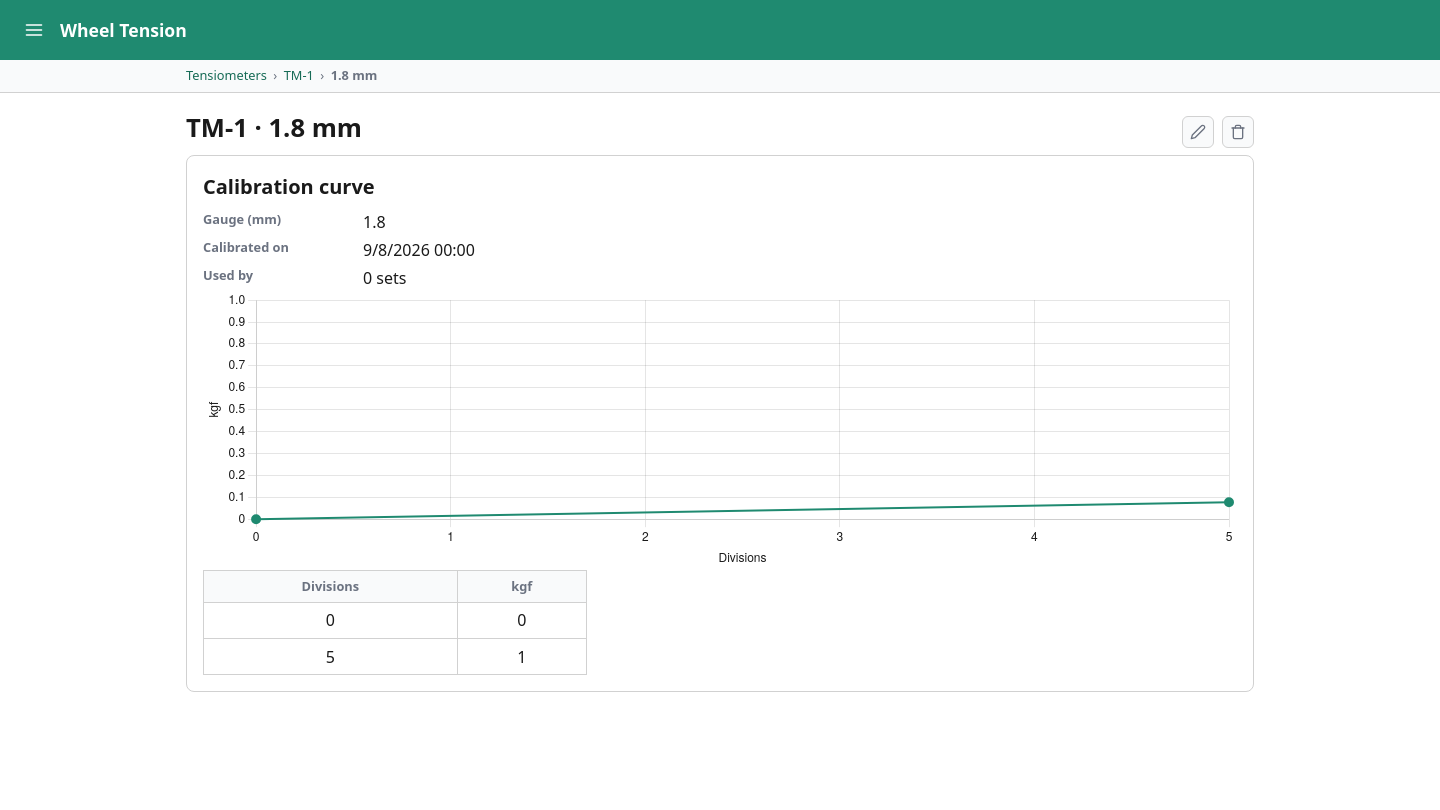
CurveDetailPage › deletes the curve via the delete icon and returns to the tensiometer
Click the button named "Delete curve" at (1238, 132), box [1222,116,1254,148]
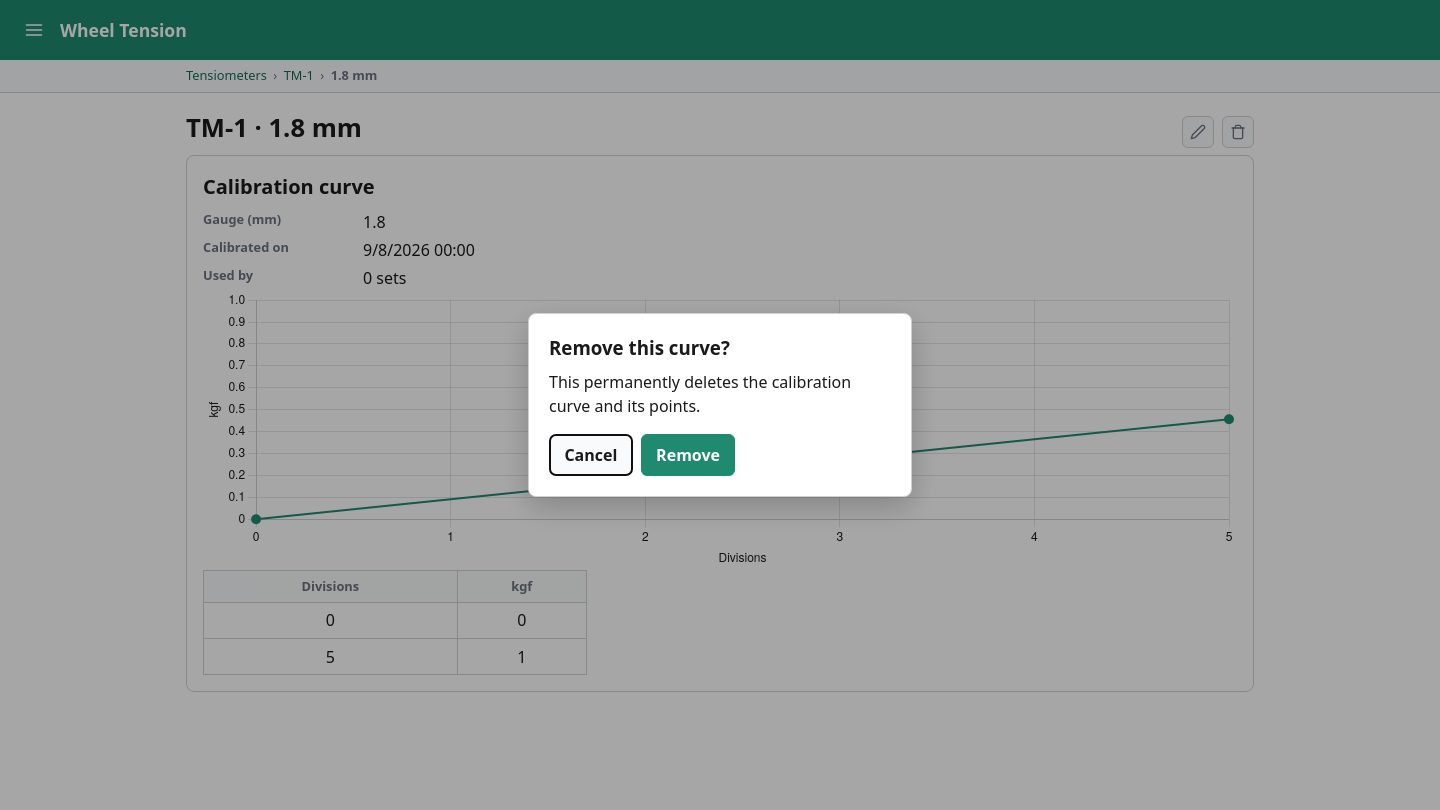
Click the button "Remove" at (688, 455), box [641,434,735,476]
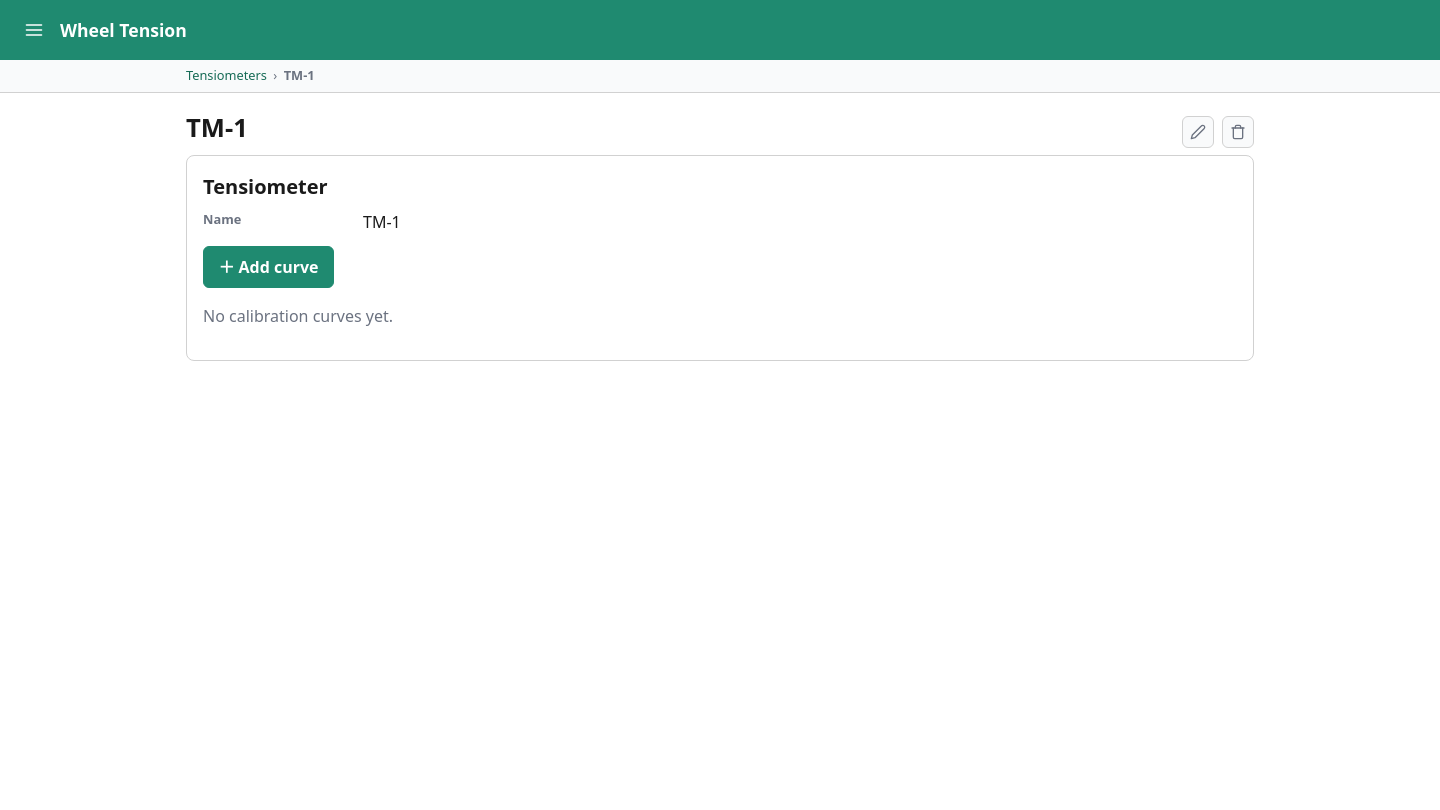
Result: the heading "Tensiometer" is shown at [203,172,328,202]
Result: the text "No calibration curves yet." is shown at [203,305,393,327]
